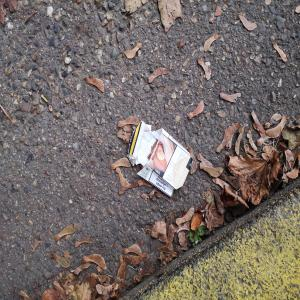Trash: (127, 119, 196, 201)
